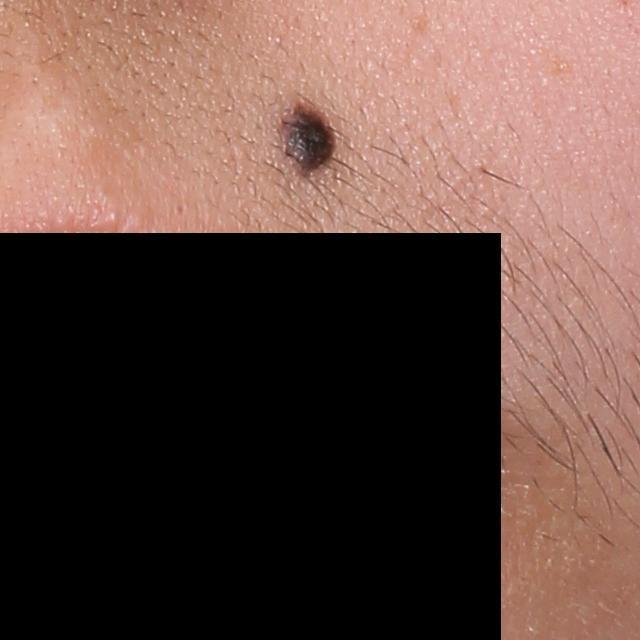nevus: (282, 95, 337, 185)
